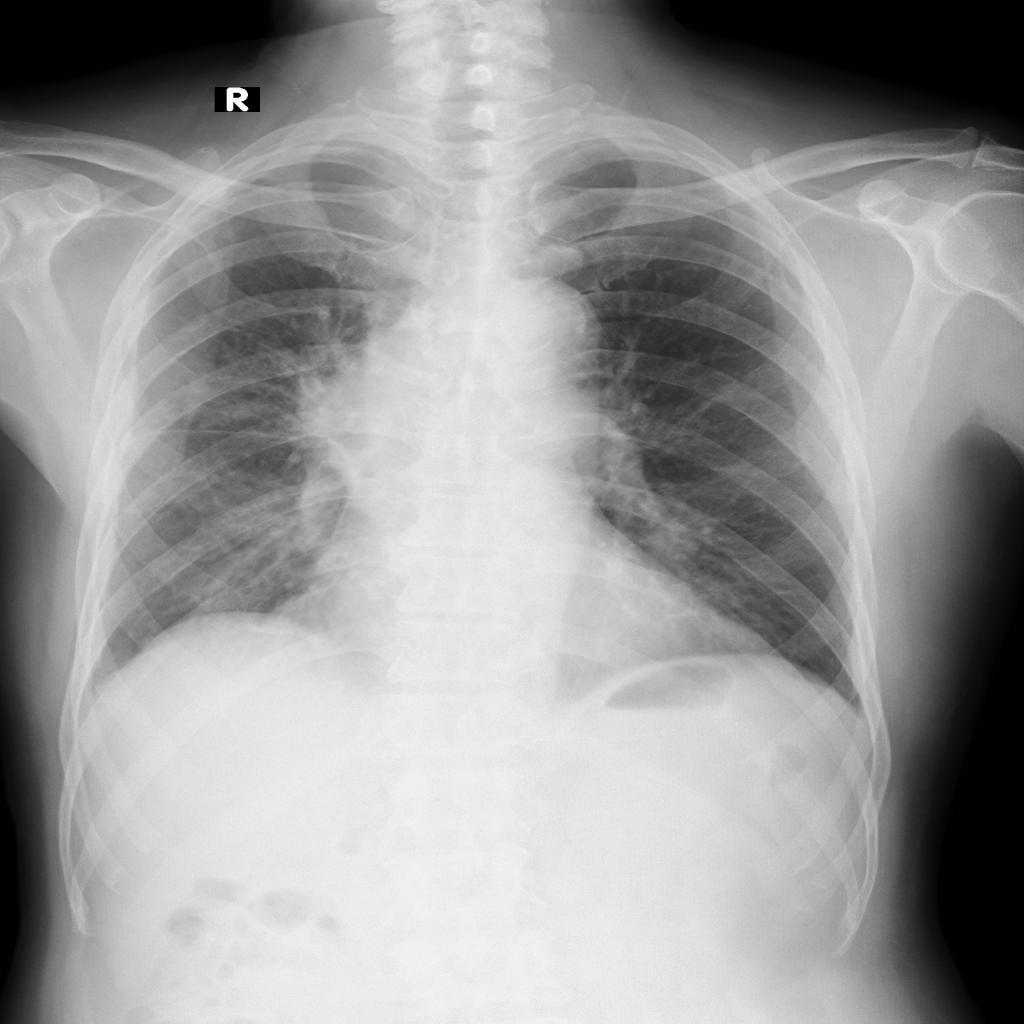Nodule: (296, 324, 437, 512)
